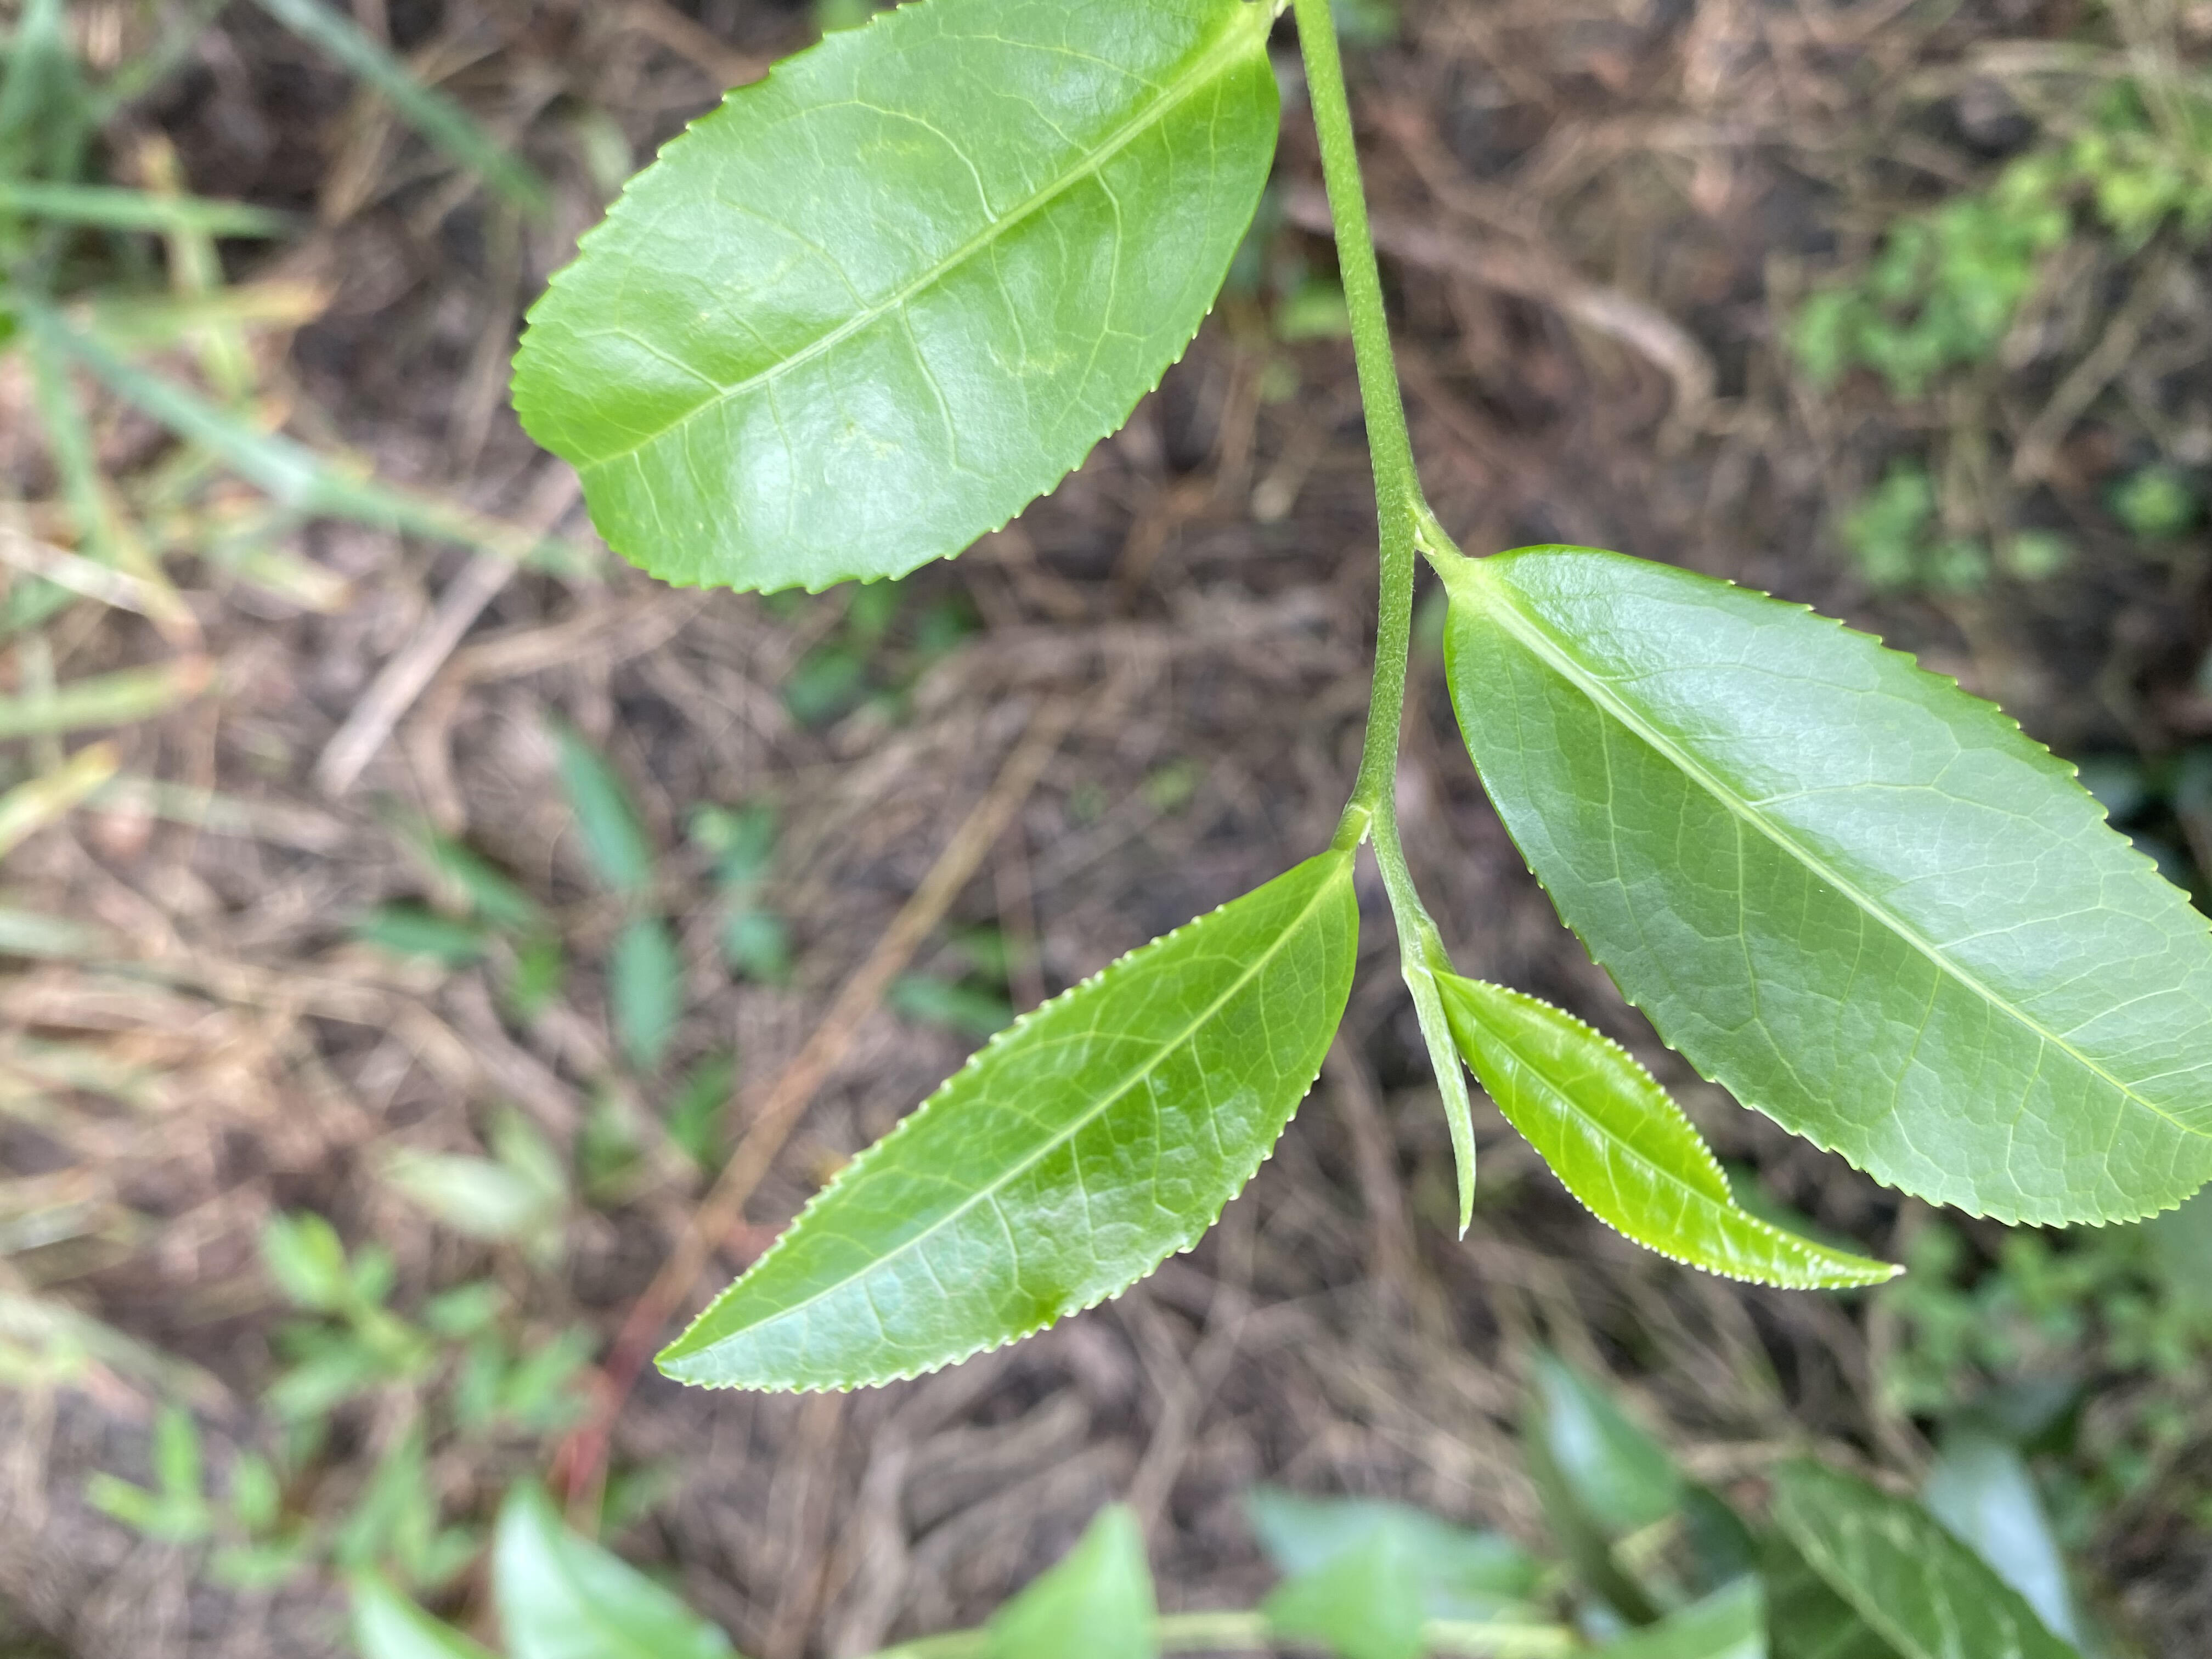healthy: (1440, 544, 2209, 1232), (505, 3, 1282, 601), (648, 850, 1364, 1398), (1437, 965, 1907, 1290)
